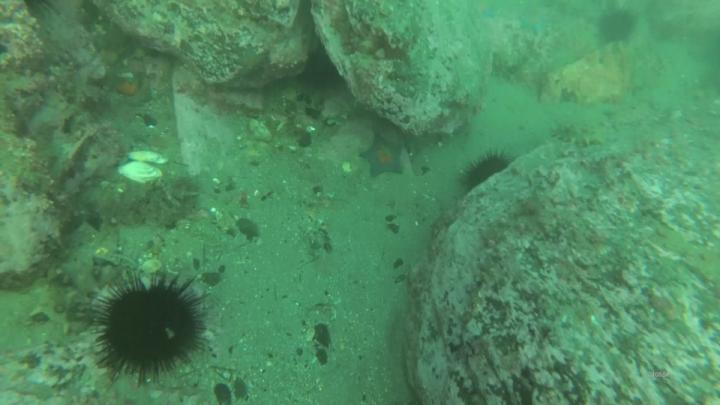echinus: (102, 278, 205, 385), (464, 153, 510, 196), (596, 8, 640, 45)
holothurian: (551, 120, 607, 149)
scallop: (117, 147, 169, 187)
starfish: (361, 130, 410, 181)
